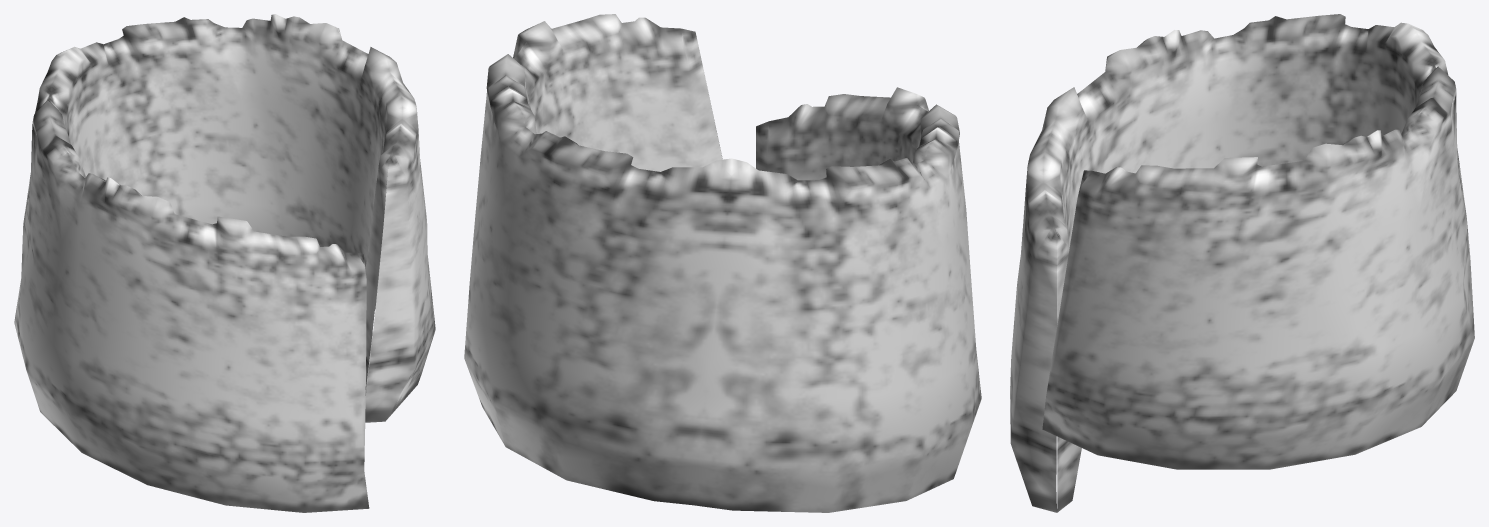
Rendered from Ruins_RoundTower01.fbx.
The picture shows the model from 3 angles, left to right: view 1: azimuth 30°, elevation 25°; view 2: azimuth 150°, elevation 25°; view 3: azimuth 270°, elevation 25°; orthographic projection. The views are drawn at different scales.
Parts seen in each view (by area): view 1: Ruins_RoundTower01; view 2: Ruins_RoundTower01; view 3: Ruins_RoundTower01.
Boxes of the visible parts, x1=… form: Ruins_RoundTower01: x1=14, y1=14, x2=435, y2=512; Ruins_RoundTower01: x1=464, y1=14, x2=981, y2=512; Ruins_RoundTower01: x1=1010, y1=14, x2=1474, y2=512.
Bounding box in the file's own units: 471 × 464 × 472.
